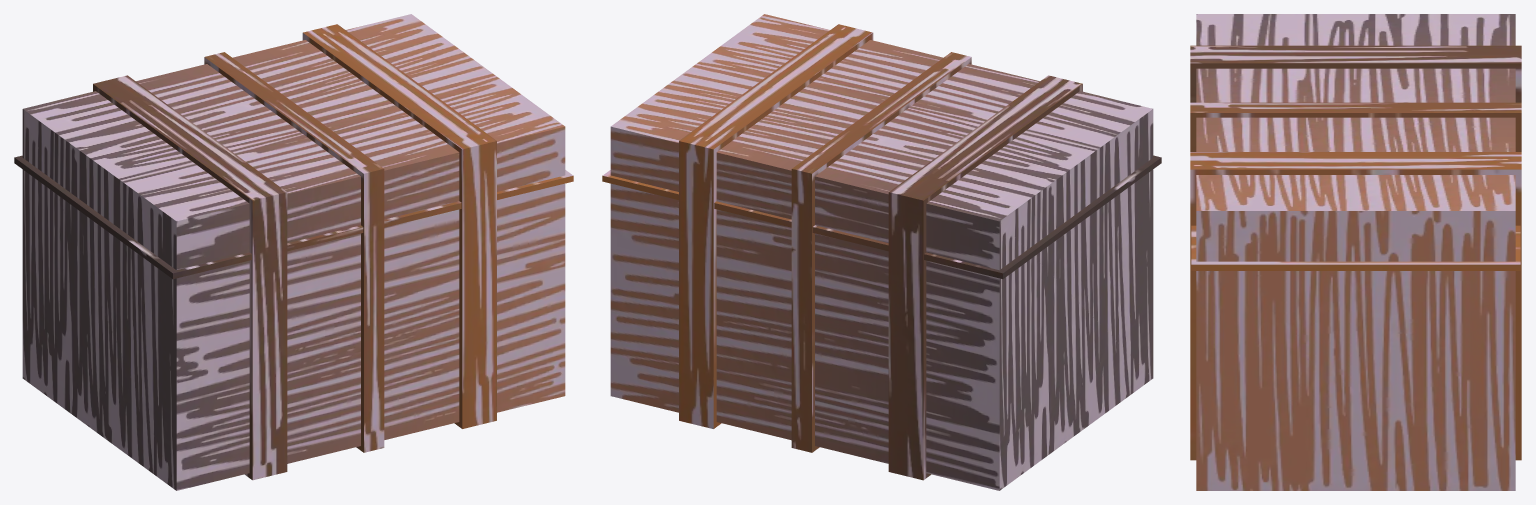
The model's file is bigBox_1953.glb.
3 renders of one model, left to right at view 1: azimuth 30°, elevation 25°; view 2: azimuth 150°, elevation 25°; view 3: azimuth 270°, elevation 25°, orthographic. The views are drawn at different scales.
Visible parts, largest first — view 1: GrosseBoite_1953; view 2: GrosseBoite_1953; view 3: GrosseBoite_1953.
Part boxes in pixels (left/top/right/bottom): GrosseBoite_1953: left=14, top=14, right=573, bottom=490; GrosseBoite_1953: left=602, top=14, right=1161, bottom=490; GrosseBoite_1953: left=1190, top=14, right=1521, bottom=490.
Bounding box in the file's own units: 1.75 × 1.17 × 1.21.
1 material, 1 textured.
